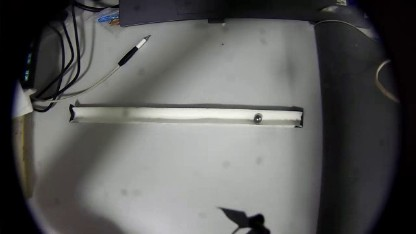gangzhu: (252, 112, 263, 124)
